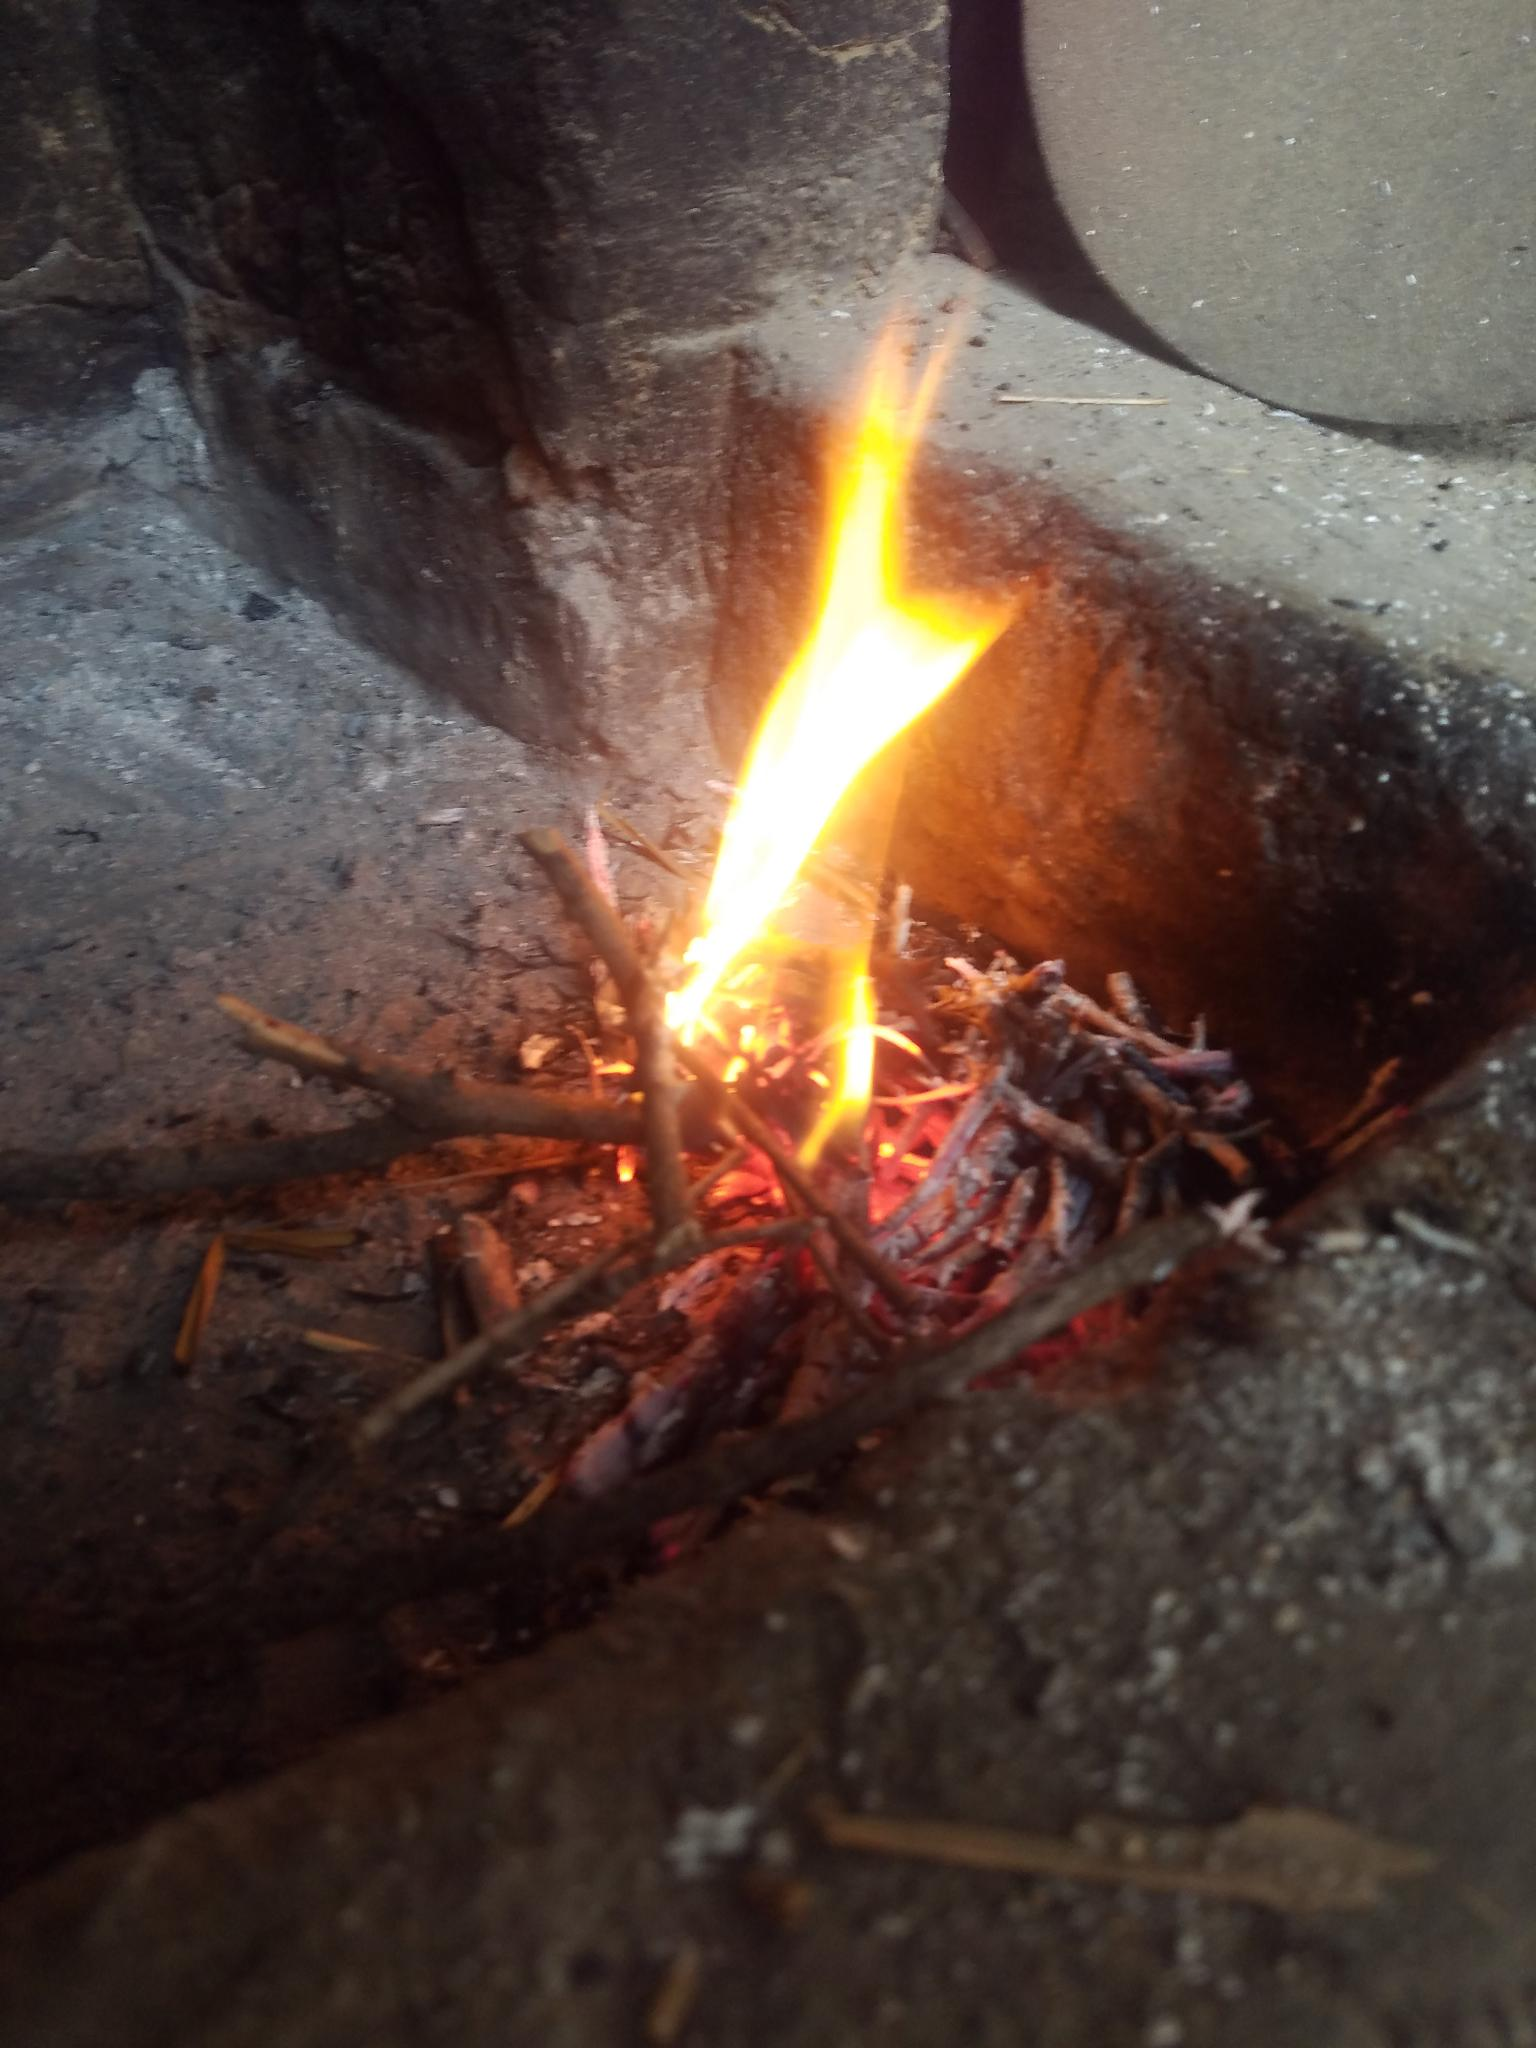Fire: (649, 305, 1025, 1174)
